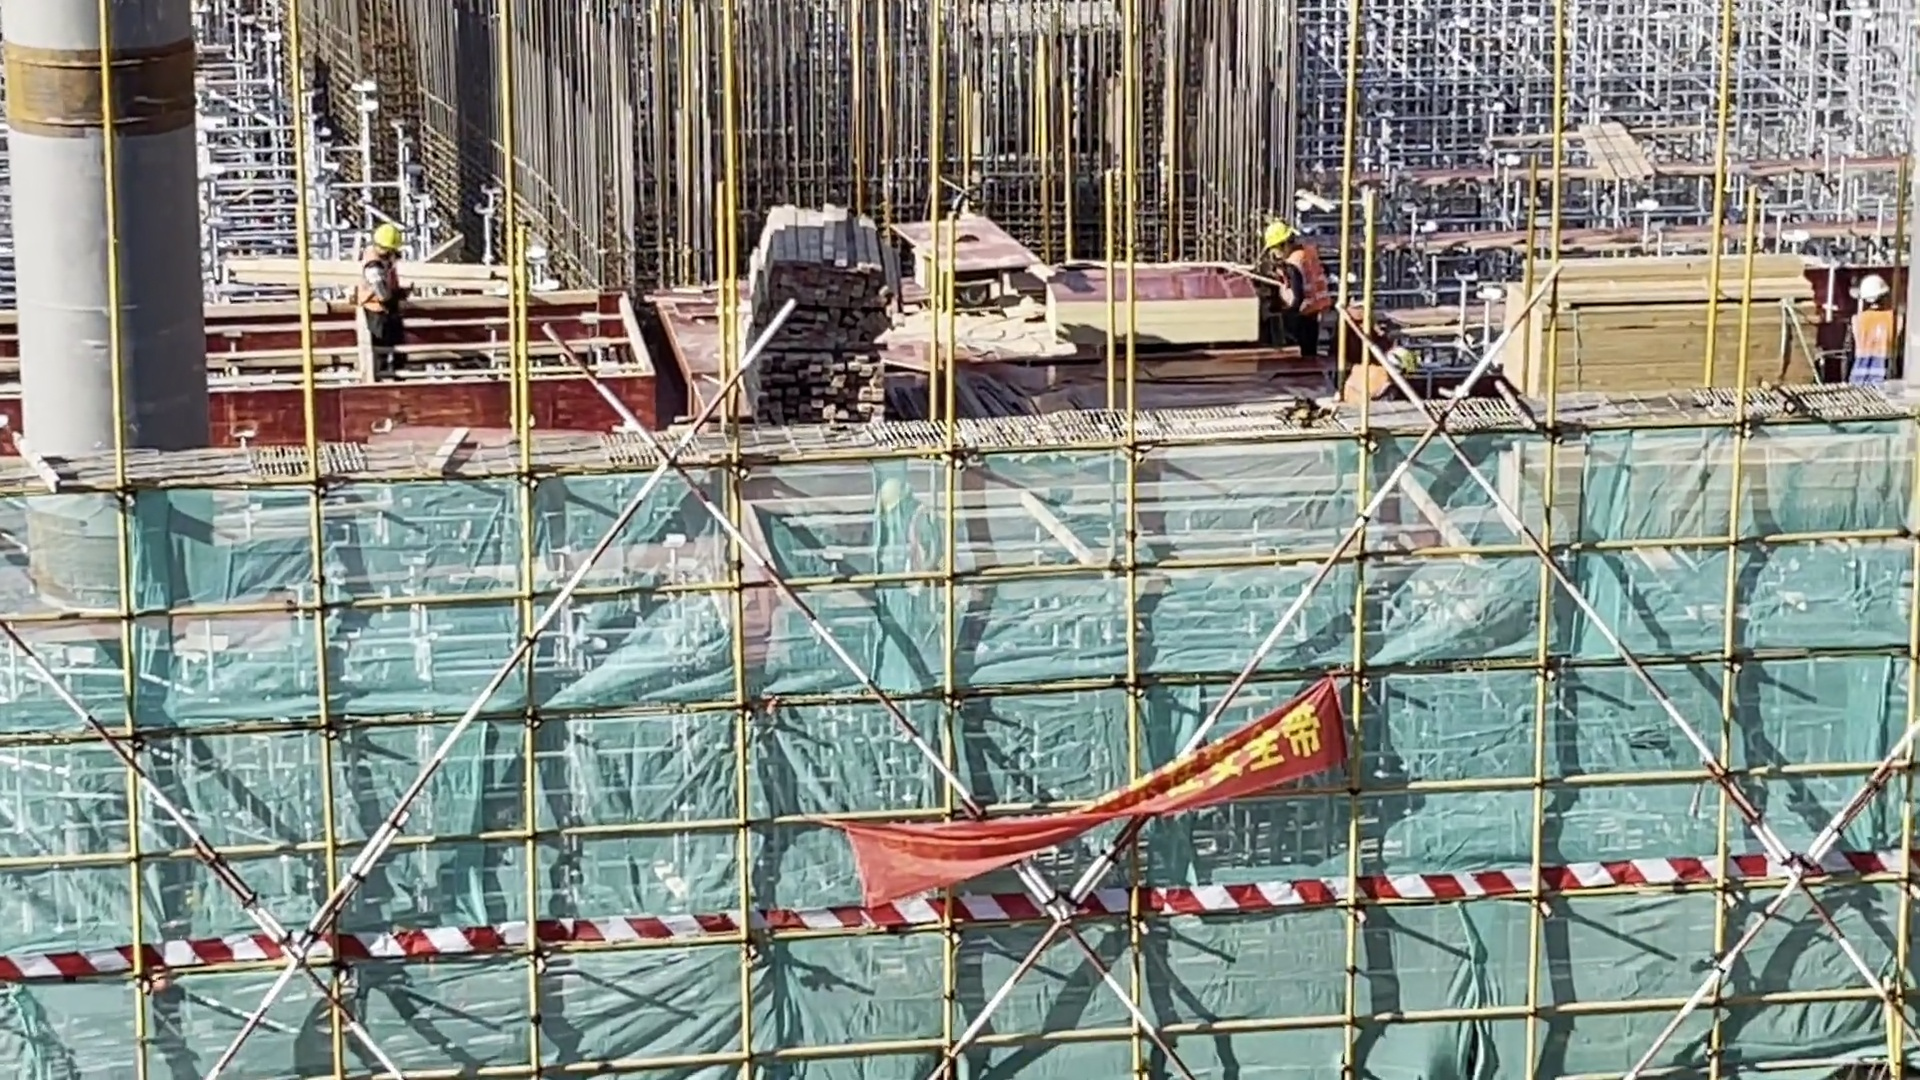helmet: (1851, 264, 1892, 305), (1260, 216, 1300, 254), (367, 213, 404, 254)
person: (1256, 208, 1337, 382), (347, 209, 411, 389), (1849, 267, 1906, 393)
slogan: (817, 654, 1380, 908)
vest: (1273, 246, 1333, 319), (1852, 308, 1907, 383), (356, 265, 411, 327)
wood: (1499, 232, 1840, 413), (736, 194, 901, 445)
